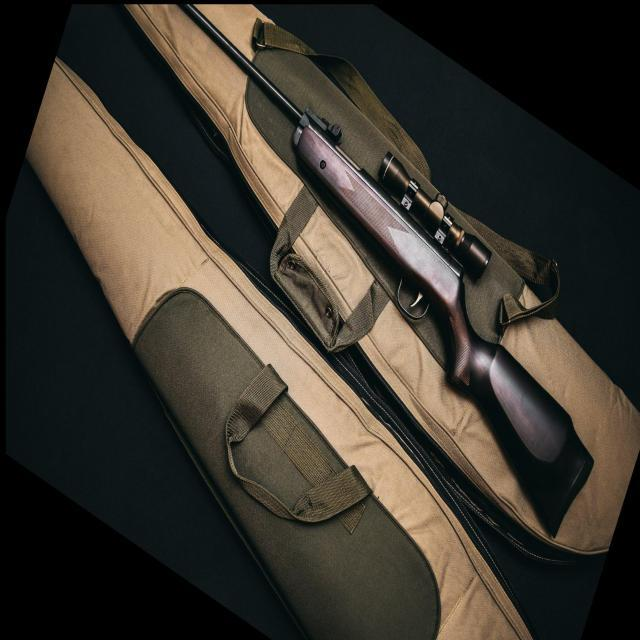weapon: (178, 4, 597, 541)
